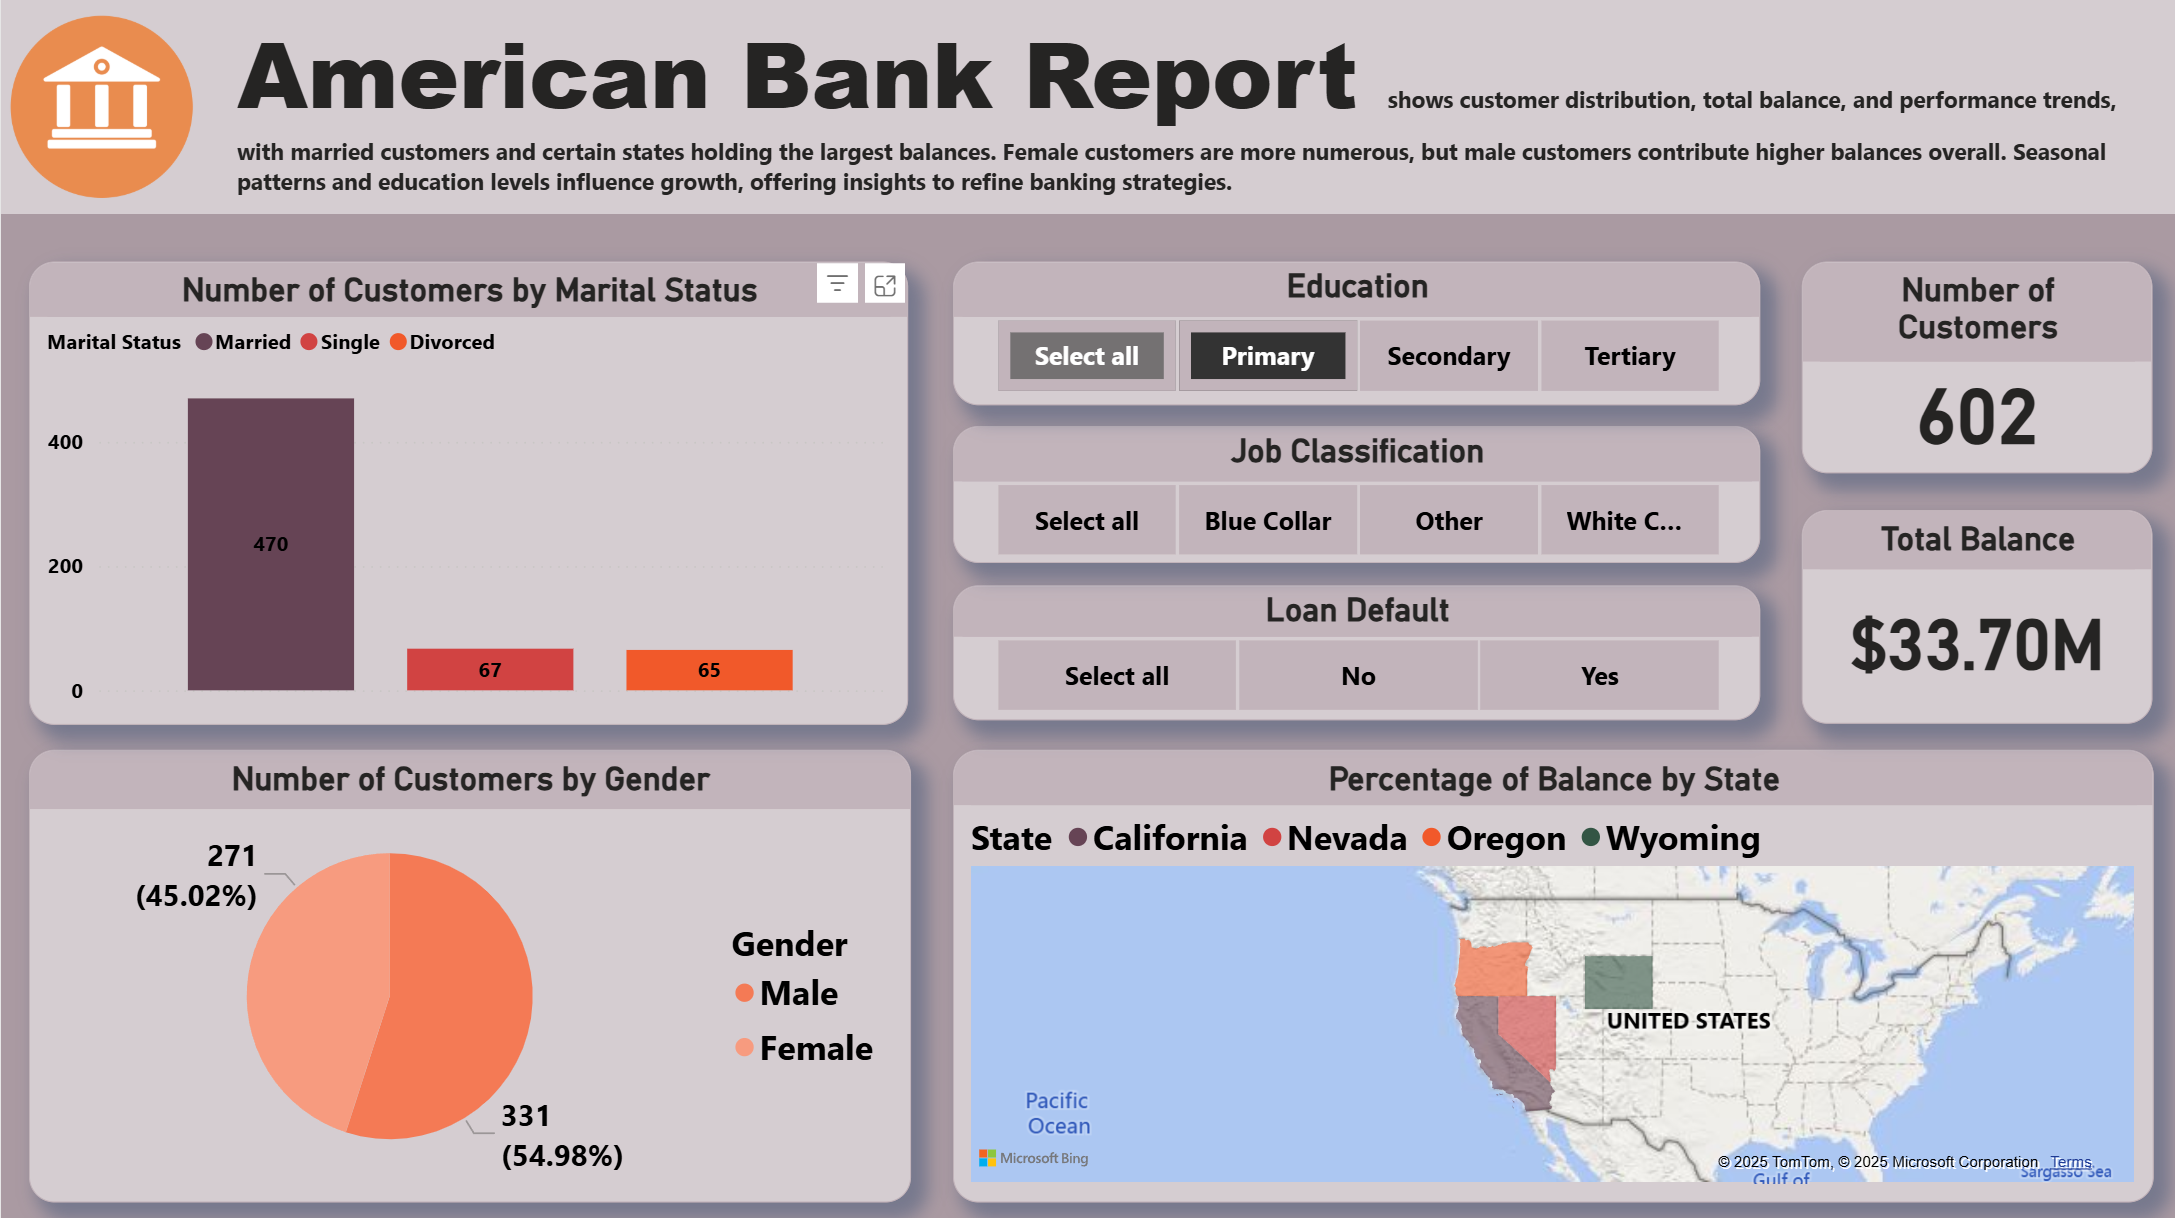

The page's visual inventory and layout, read from the dashboard file:
{"tool":"powerbi","page":{"name":"Customer Demographics","canvas":[1280,720],"ordinal":0},"visuals":[{"type":"pieChart","title":"Number of Customers by Gender","fields":{"Category":["AmericaBankNew.Gender"],"Y":["CountNonNull(AmericaBankNew.Customer ID)"]},"box":[16.2,441.5,518.6,266.2],"z":0},{"type":"columnChart","title":"Number of Customers by Marital Status ","fields":{"Category":["AmericaBankNew.marital"],"Y":["CountNonNull(AmericaBankNew.Customer ID)"],"Series":["AmericaBankNew.marital"]},"box":[16.2,154.2,517.4,272.4],"z":1000},{"type":"image","box":[0,0,118.2,126.9],"z":2000,"group":"g1"},{"type":"filledMap","title":"Percentage of Balance by State","fields":{"Category":["AmericaBankNew.State"],"Series":["AmericaBankNew.State"]},"box":[559.7,441.5,706.5,266.2],"z":3000},{"type":"slicer","title":"Loan Default","fields":{"Values":["AmericaBankNew.Loan Default"]},"box":[559.7,344.5,475.1,79.6],"z":4000},{"type":"slicer","title":"Job Classification","fields":{"Values":["AmericaBankNew.Job Classification"]},"box":[559.7,251.2,475.1,80.8],"z":5000},{"type":"card","title":"Number of Customers","fields":{"Values":["CountNonNull(AmericaBankNew.Customer ID)"]},"box":[1059.7,154.2,206.5,124.4],"z":6000},{"type":"card","title":"Total Balance","fields":{"Values":["Sum(AmericaBankNew.Balance)"]},"box":[1059.7,301,206.5,125.6],"z":7000},{"type":"slicer","title":"Education","fields":{"Values":["AmericaBankNew.Education"]},"box":[559.7,154.2,475.1,84.6],"z":8000},{"type":"textbox","box":[134.3,0,1145.5,126.9],"z":9000,"group":"g1"},{"type":"group","id":"g1","title":"Group 1","box":[0,0,1279.8,126.9],"z":9001}]}

Visuals, with their boxes in screenshot pixels (x1, y1, x2, y2), scaled from the page's 1280x720 canvas onto the 2175x1218 screenshot:
"Number of Customers by Gender" pieChart: <bbox>28, 747, 909, 1197</bbox>
"Number of Customers by Marital Status " columnChart: <bbox>28, 261, 907, 722</bbox>
image: <bbox>0, 0, 201, 215</bbox>
"Percentage of Balance by State" filledMap: <bbox>951, 747, 2152, 1197</bbox>
"Loan Default" slicer: <bbox>951, 583, 1758, 717</bbox>
"Job Classification" slicer: <bbox>951, 425, 1758, 562</bbox>
"Number of Customers" card: <bbox>1801, 261, 2152, 471</bbox>
"Total Balance" card: <bbox>1801, 509, 2152, 722</bbox>
"Education" slicer: <bbox>951, 261, 1758, 404</bbox>
textbox: <bbox>228, 0, 2174, 215</bbox>
"Group 1" group: <bbox>0, 0, 2174, 215</bbox>
